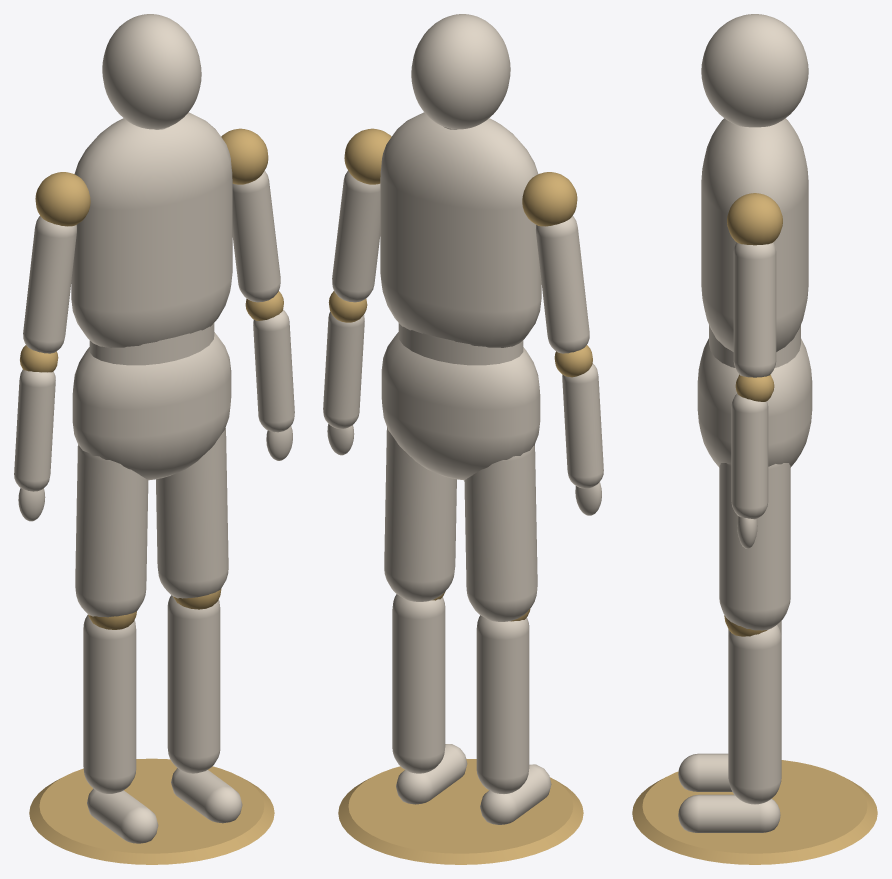
The model's file is mannequin.glb.
The picture shows the model from 3 angles, left to right: view 1: azimuth 30°, elevation 25°; view 2: azimuth 150°, elevation 25°; view 3: azimuth 270°, elevation 25°; orthographic projection.
Parts seen in each view (by area): view 1: Chest, Hips, Base, ThighR, ThighL, Head, ShinR, ShinL, UpperArmR, UpperArmL, ForearmR, ForearmL (+10 smaller); view 2: Chest, Hips, Base, ThighR, ThighL, Head, ShinL, ShinR, UpperArmR, UpperArmL, ForearmR, ForearmL (+9 smaller); view 3: Chest, Base, Head, ThighL, ShinL, Hips, UpperArmL, ForearmL, FootL, ShoulderL, FootR, Waist (+2 smaller).
Boxes of the visible parts, x1=… form: Chest: x1=71, y1=112, x2=232, y2=347; Hips: x1=72, y1=332, x2=231, y2=480; Base: x1=29, y1=758, x2=274, y2=864; ThighR: x1=75, y1=445, x2=148, y2=617; ThighL: x1=156, y1=428, x2=228, y2=598; Head: x1=102, y1=14, x2=201, y2=129; ShinR: x1=83, y1=615, x2=136, y2=793; ShinL: x1=167, y1=595, x2=220, y2=773; UpperArmR: x1=23, y1=216, x2=76, y2=353; UpperArmL: x1=232, y1=170, x2=280, y2=302; ForearmR: x1=14, y1=369, x2=55, y2=491; ForearmL: x1=253, y1=309, x2=294, y2=432; Chest: x1=380, y1=112, x2=541, y2=347; Hips: x1=381, y1=332, x2=540, y2=480; Base: x1=338, y1=759, x2=583, y2=864; ThighR: x1=464, y1=444, x2=537, y2=621; ThighL: x1=384, y1=427, x2=456, y2=601; Head: x1=411, y1=14, x2=510, y2=129; ShinL: x1=392, y1=594, x2=445, y2=773; ShinR: x1=476, y1=615, x2=529, y2=793; UpperArmR: x1=535, y1=216, x2=589, y2=353; UpperArmL: x1=332, y1=170, x2=380, y2=302; ForearmR: x1=562, y1=363, x2=603, y2=488; ForearmL: x1=323, y1=311, x2=364, y2=428; Chest: x1=701, y1=118, x2=808, y2=351; Base: x1=632, y1=760, x2=877, y2=864; Head: x1=701, y1=14, x2=808, y2=127; ThighL: x1=719, y1=463, x2=790, y2=630; ShinL: x1=728, y1=625, x2=781, y2=804; Hips: x1=697, y1=338, x2=812, y2=467; UpperArmL: x1=733, y1=242, x2=776, y2=377; ForearmL: x1=731, y1=393, x2=768, y2=519; FootL: x1=678, y1=794, x2=780, y2=832; ShoulderL: x1=727, y1=193, x2=782, y2=245; FootR: x1=678, y1=753, x2=732, y2=791; Waist: x1=709, y1=325, x2=800, y2=367.
Size of the model in its own units: 0.6239 by 1.72 by 0.48.
